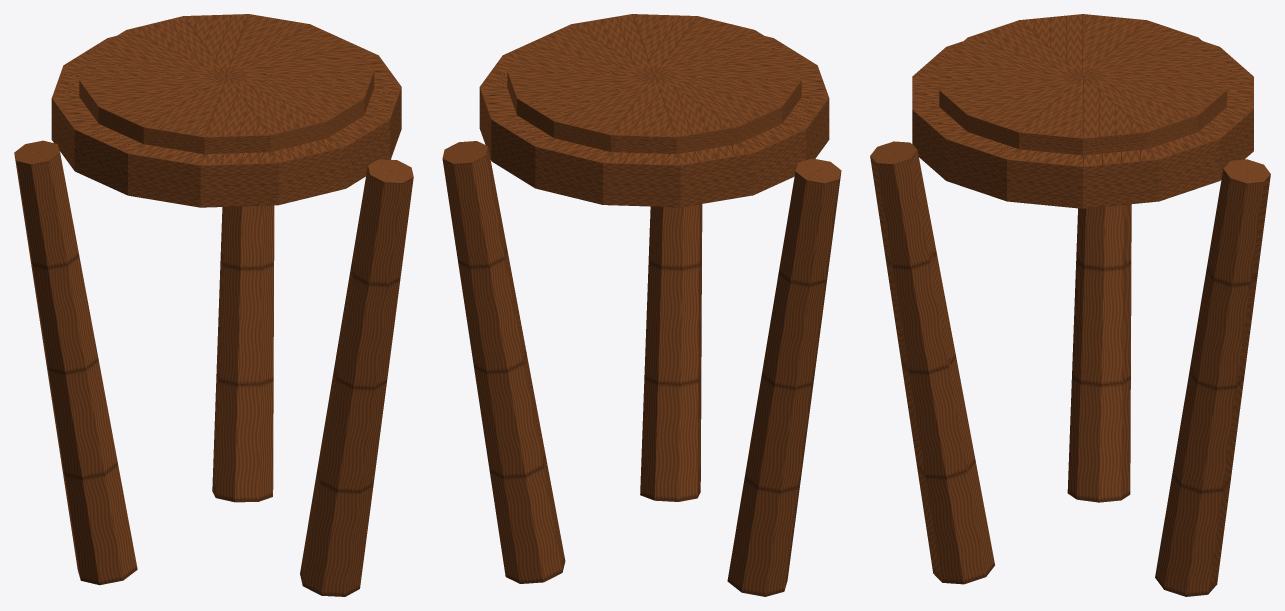
The model's file is blacksmith-forge-and-armoury-blacksmith-forge-and-armo-ac2e8d29__37576.glb.
The picture shows the model from 3 angles, left to right: view 1: azimuth 30°, elevation 25°; view 2: azimuth 150°, elevation 25°; view 3: azimuth 270°, elevation 25°; orthographic projection.
Parts seen in each view (by area): view 1: blacksmith-forge-and-armoury-bench-stool; view 2: blacksmith-forge-and-armoury-bench-stool; view 3: blacksmith-forge-and-armoury-bench-stool.
Part boxes in pixels (left/top/right/bottom): blacksmith-forge-and-armoury-bench-stool: left=14, top=14, right=413, bottom=596; blacksmith-forge-and-armoury-bench-stool: left=442, top=14, right=841, bottom=596; blacksmith-forge-and-armoury-bench-stool: left=870, top=14, right=1270, bottom=596.
Size of the model in its own units: 0.4368 by 0.57 by 0.4347.
1 material, 1 textured.
